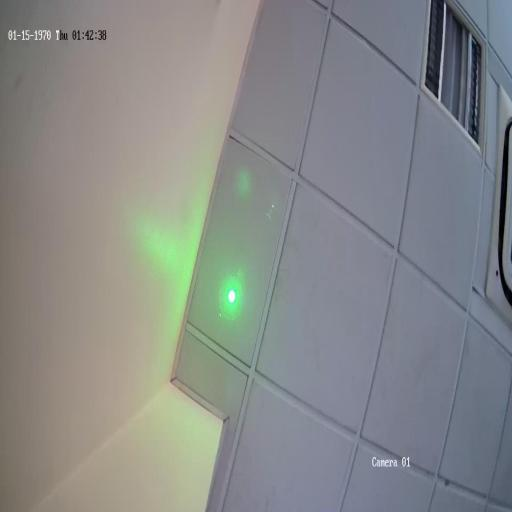laser: (218, 270, 244, 318)
